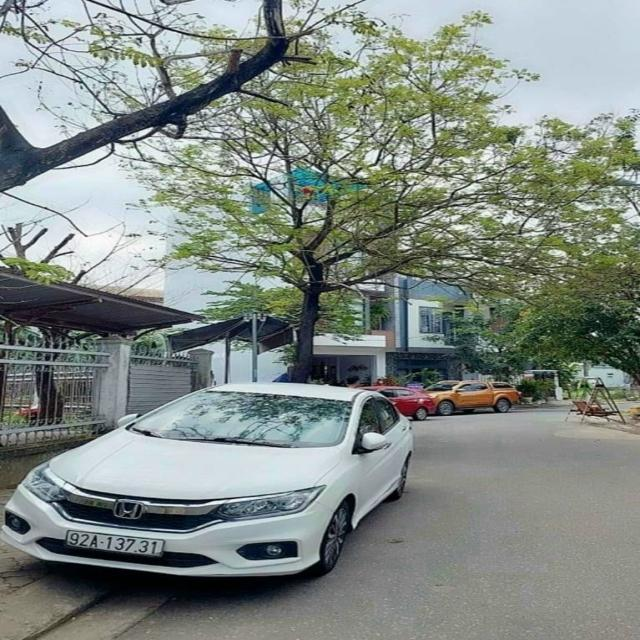car: (8, 375, 420, 594), (412, 376, 525, 419)
plate: (60, 521, 169, 562)
